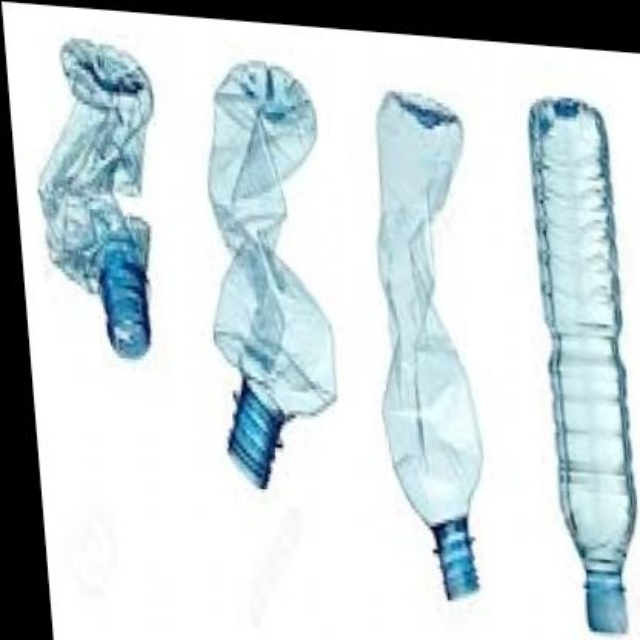trash: (529, 98, 634, 631), (209, 62, 334, 486), (377, 92, 480, 598), (38, 38, 151, 357)
